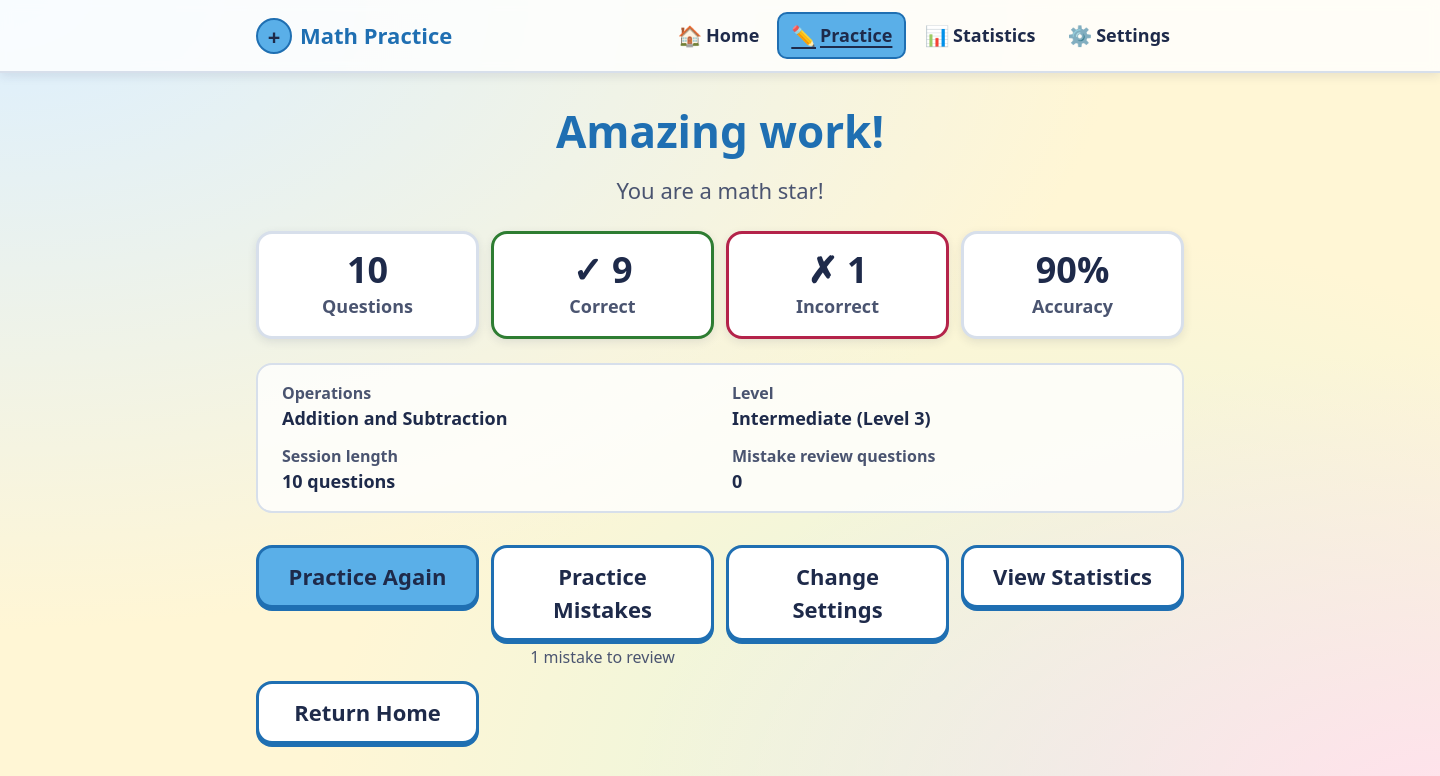
Test case: SessionSummaryPage › actions › Practice Mistakes starts a review session when there are mistakes
Click the button "Practice Mistakes" at {"x": 602, "y": 593}, box 491,545 -> 714,641
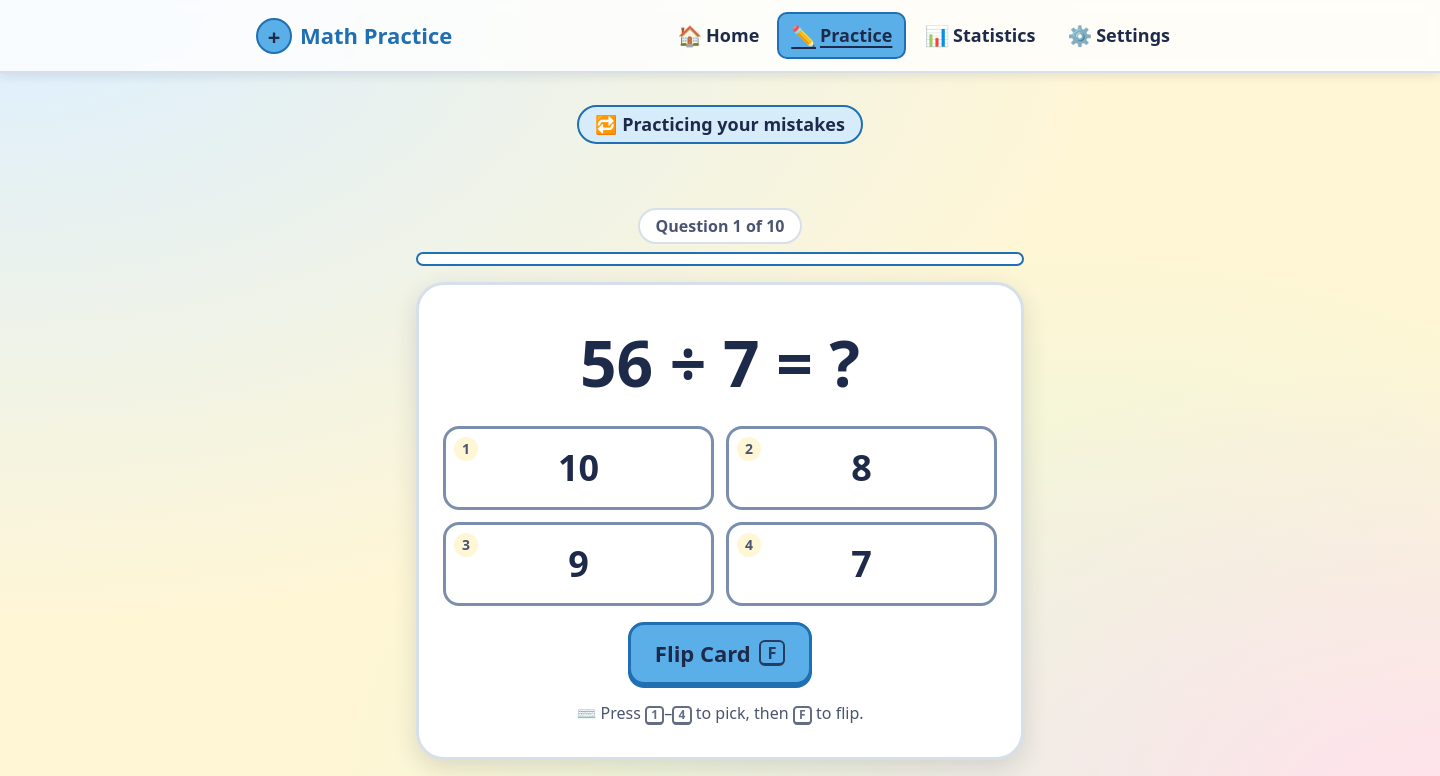
Expected: the text "🔁 Practicing your mistakes" is shown, 577,105 -> 863,144
